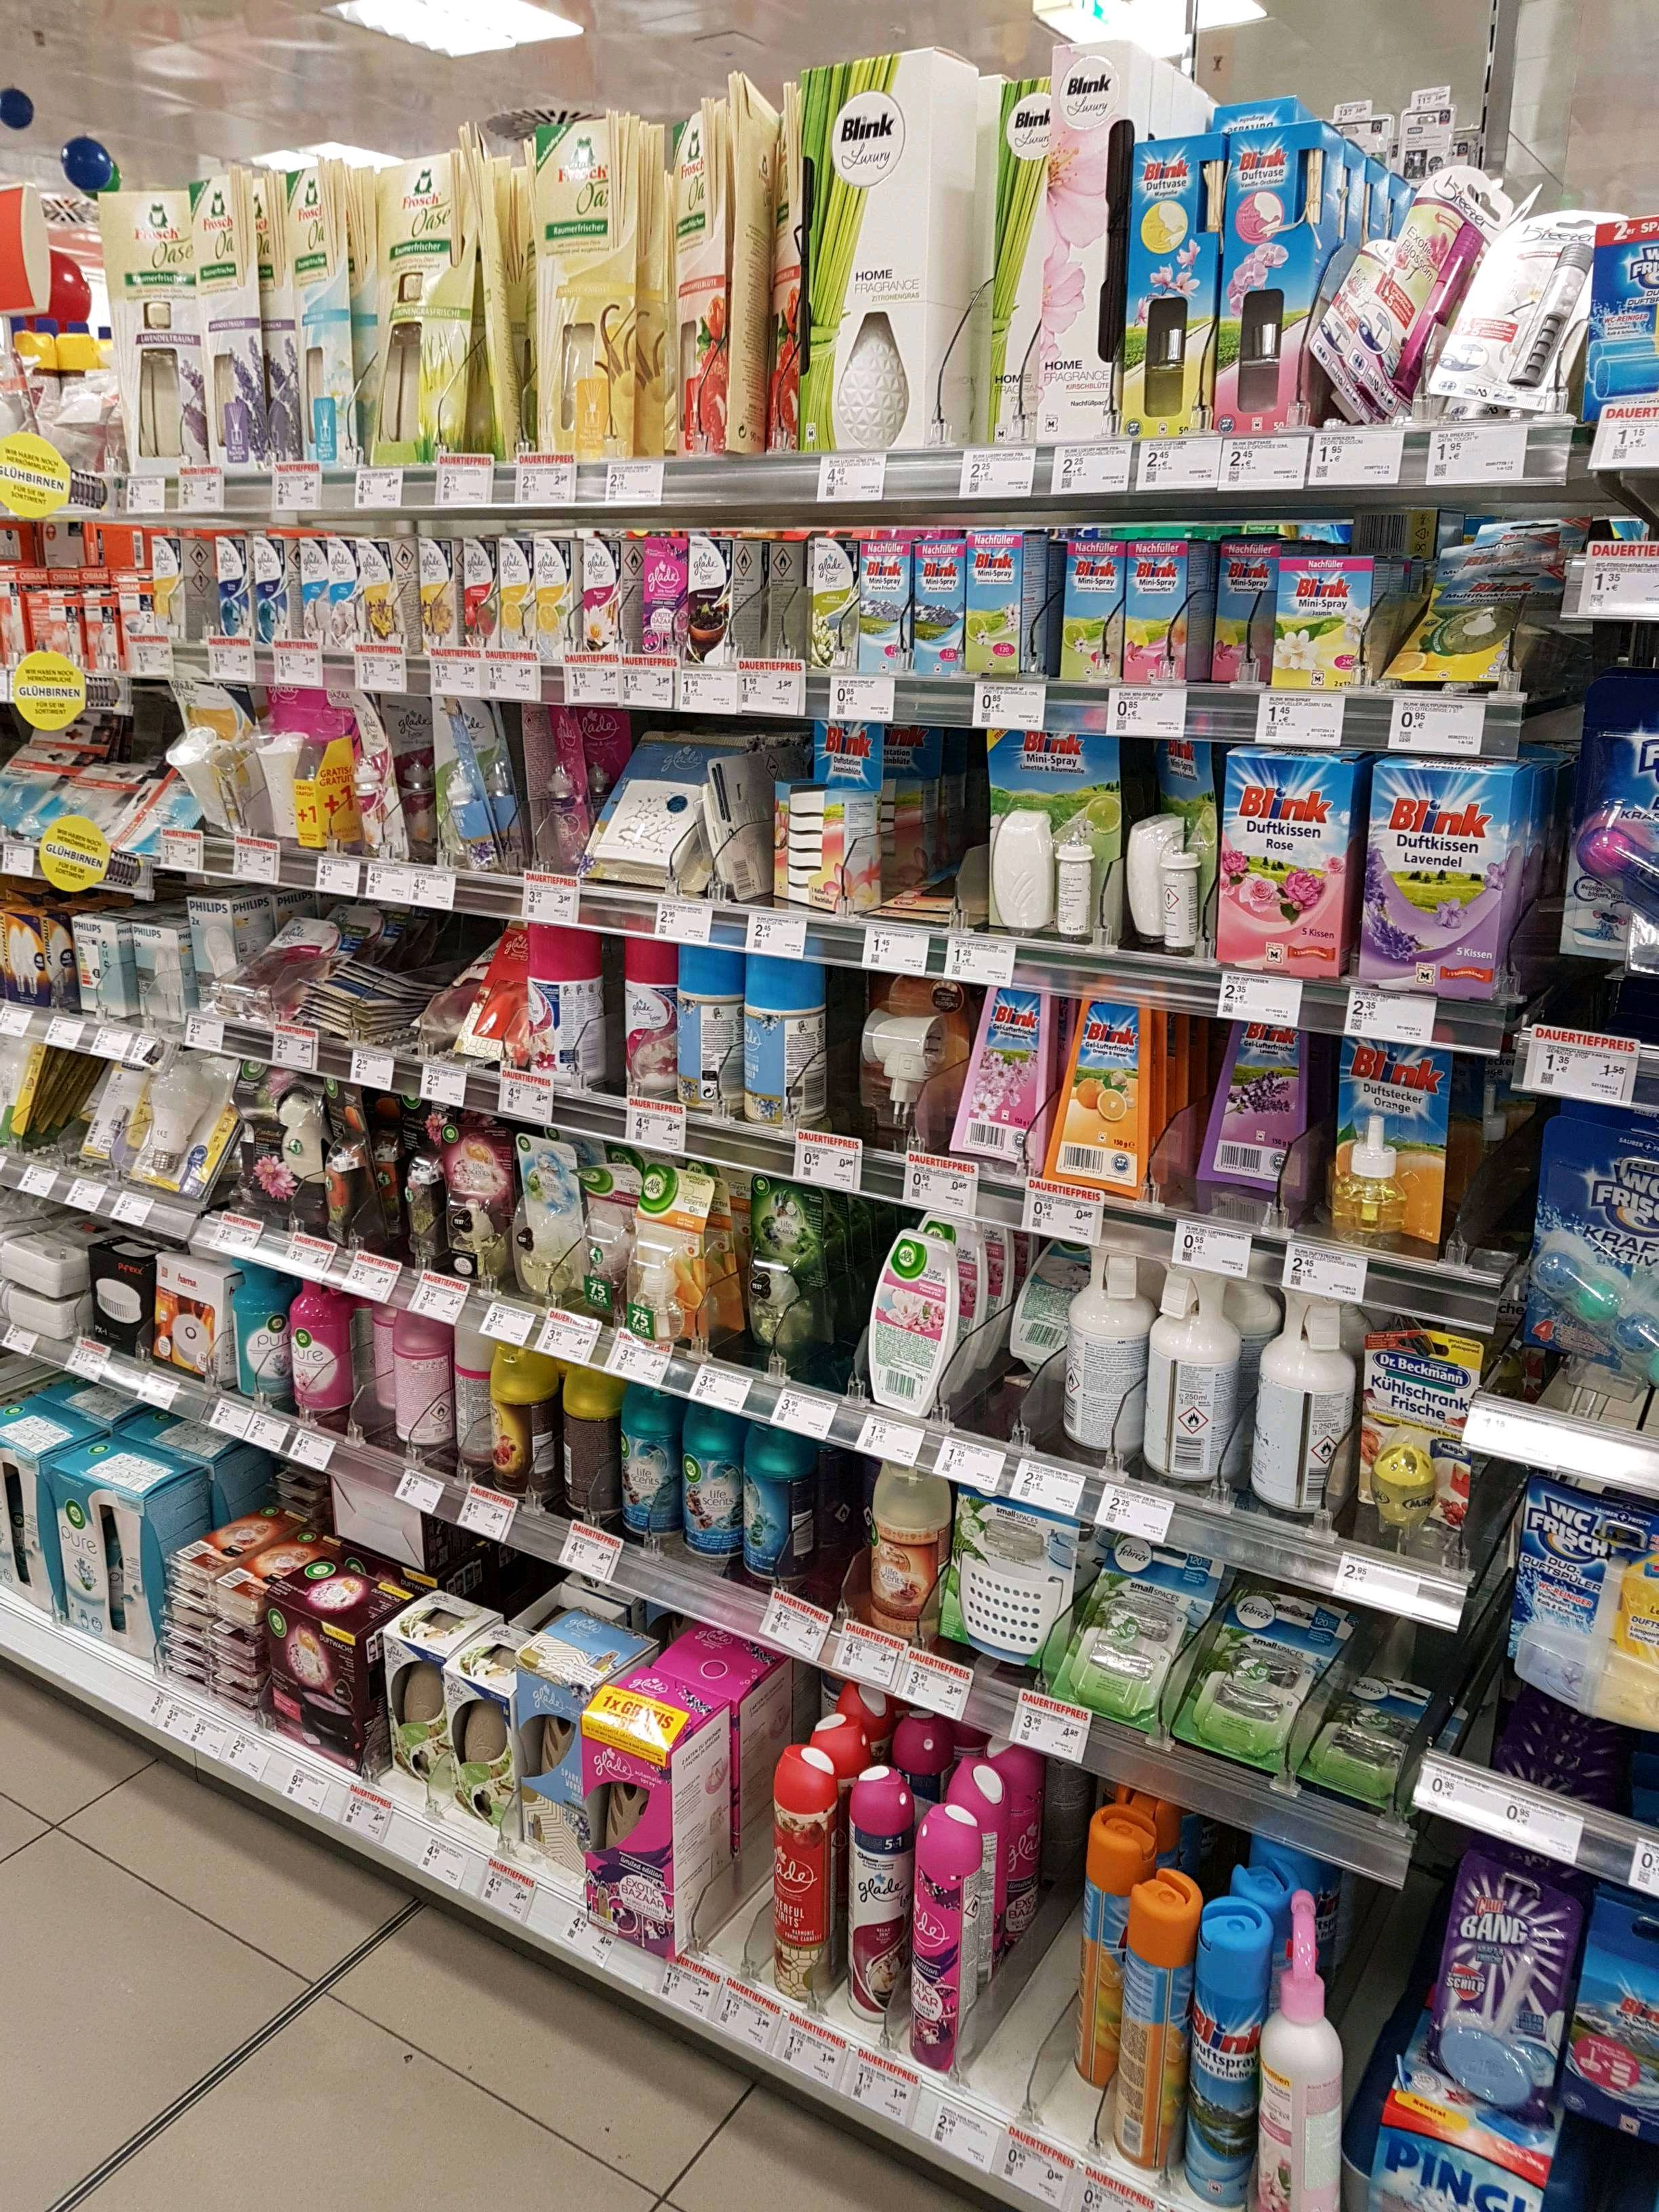Misplacement: (1188, 538, 1263, 700)
Out-of-stock: (957, 1815, 1080, 2167)
